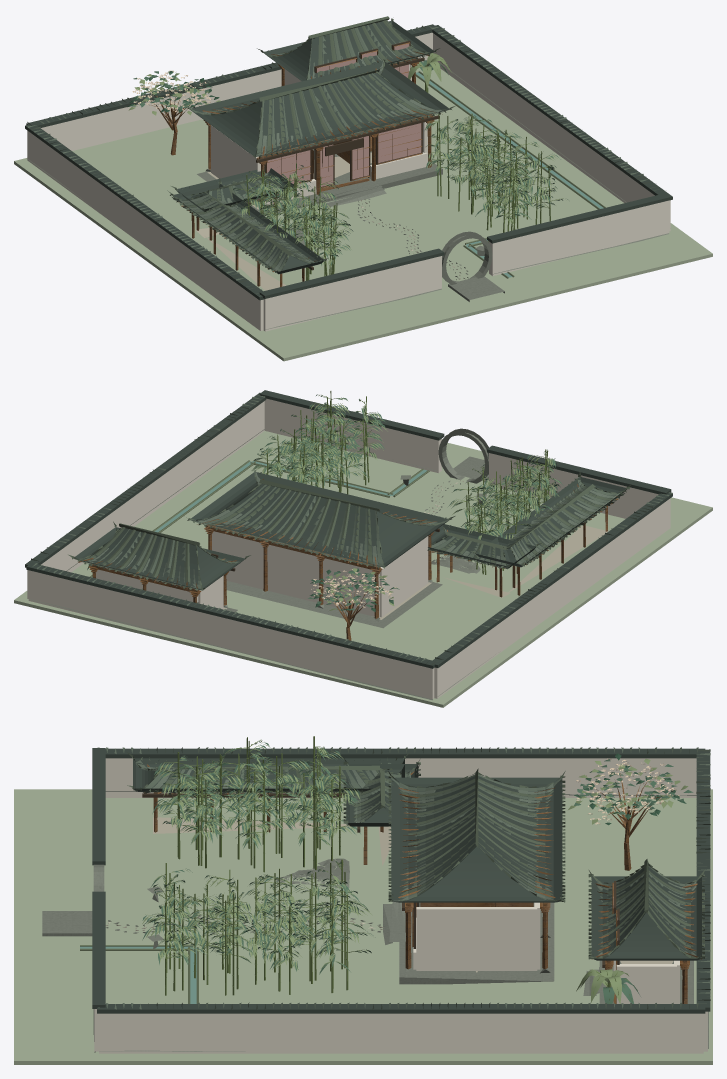
File: public_models_places-low_xiaoxiangguan.glb
3 renders of one model, top to bottom at view 1: azimuth 30°, elevation 25°; view 2: azimuth 150°, elevation 25°; view 3: azimuth 270°, elevation 25°, orthographic. The views are drawn at different scales.
Visible parts, largest first — view 1: xiaoxiangguan_earth.001, xiaoxiangguan_plaster.001, xiaoxiangguan_roof.001, xiaoxiangguan_lightleaf.001, xiaoxiangguan_tiledark, xiaoxiangguan_leaf.001, xiaoxiangguan_tile.001, xiaoxiangguan_bamboo.001, xiaoxiangguan_stone.001, xiaoxiangguan_wood.001, xiaoxiangguan_silk, xiaoxiangguan_darkwood.001 (+5 smaller); view 2: xiaoxiangguan_plaster.001, xiaoxiangguan_earth.001, xiaoxiangguan_roof.001, xiaoxiangguan_tiledark, xiaoxiangguan_lightleaf.001, xiaoxiangguan_leaf.001, xiaoxiangguan_tile.001, xiaoxiangguan_stone.001, xiaoxiangguan_bamboo.001, xiaoxiangguan_wood.001, xiaoxiangguan_tilelight, xiaoxiangguan_paving (+3 smaller); view 3: xiaoxiangguan_earth.001, xiaoxiangguan_roof.001, xiaoxiangguan_plaster.001, xiaoxiangguan_lightleaf.001, xiaoxiangguan_leaf.001, xiaoxiangguan_bamboo.001, xiaoxiangguan_tiledark, xiaoxiangguan_tile.001, xiaoxiangguan_stone.001, xiaoxiangguan_wood.001, xiaoxiangguan_tilelight, xiaoxiangguan_paving (+6 smaller).
Part boxes in pixels (left/top/right/bottom): xiaoxiangguan_earth.001: left=14, top=67, right=712, bottom=361; xiaoxiangguan_plaster.001: left=27, top=32, right=670, bottom=331; xiaoxiangguan_roof.001: left=25, top=20, right=672, bottom=300; xiaoxiangguan_lightleaf.001: left=128, top=53, right=563, bottom=271; xiaoxiangguan_tiledark: left=167, top=16, right=455, bottom=272; xiaoxiangguan_leaf.001: left=130, top=60, right=567, bottom=265; xiaoxiangguan_tile.001: left=27, top=22, right=659, bottom=296; xiaoxiangguan_bamboo.001: left=239, top=53, right=562, bottom=280; xiaoxiangguan_stone.001: left=27, top=61, right=668, bottom=329; xiaoxiangguan_wood.001: left=149, top=42, right=442, bottom=286; xiaoxiangguan_silk: left=267, top=43, right=421, bottom=186; xiaoxiangguan_darkwood.001: left=246, top=40, right=439, bottom=270; xiaoxiangguan_plaster.001: left=27, top=398, right=670, bottom=699; xiaoxiangguan_earth.001: left=14, top=431, right=712, bottom=707; xiaoxiangguan_roof.001: left=25, top=390, right=672, bottom=668; xiaoxiangguan_tiledark: left=68, top=470, right=631, bottom=590; xiaoxiangguan_lightleaf.001: left=252, top=395, right=560, bottom=610; xiaoxiangguan_leaf.001: left=87, top=394, right=563, bottom=610; xiaoxiangguan_tile.001: left=31, top=392, right=672, bottom=664; xiaoxiangguan_stone.001: left=29, top=428, right=495, bottom=700; xiaoxiangguan_bamboo.001: left=262, top=391, right=554, bottom=574; xiaoxiangguan_wood.001: left=78, top=479, right=618, bottom=640; xiaoxiangguan_tilelight: left=81, top=472, right=624, bottom=589; xiaoxiangguan_paving: left=223, top=479, right=608, bottom=619; xiaoxiangguan_earth.001: left=14, top=789, right=712, bottom=1064; xiaoxiangguan_roof.001: left=92, top=748, right=710, bottom=1013; xiaoxiangguan_plaster.001: left=94, top=758, right=707, bottom=1053; xiaoxiangguan_lightleaf.001: left=142, top=740, right=688, bottom=1003; xiaoxiangguan_leaf.001: left=142, top=740, right=693, bottom=1003; xiaoxiangguan_bamboo.001: left=149, top=736, right=637, bottom=1003; xiaoxiangguan_tiledark: left=127, top=752, right=705, bottom=959; xiaoxiangguan_tile.001: left=97, top=747, right=710, bottom=1009; xiaoxiangguan_stone.001: left=42, top=791, right=708, bottom=1052; xiaoxiangguan_wood.001: left=144, top=764, right=701, bottom=1003; xiaoxiangguan_tilelight: left=142, top=758, right=702, bottom=955; xiaoxiangguan_paving: left=105, top=817, right=673, bottom=972.
Size of the model in its own units: 34 by 7.26 by 37.
Materials: 19 (2 with a texture image).
